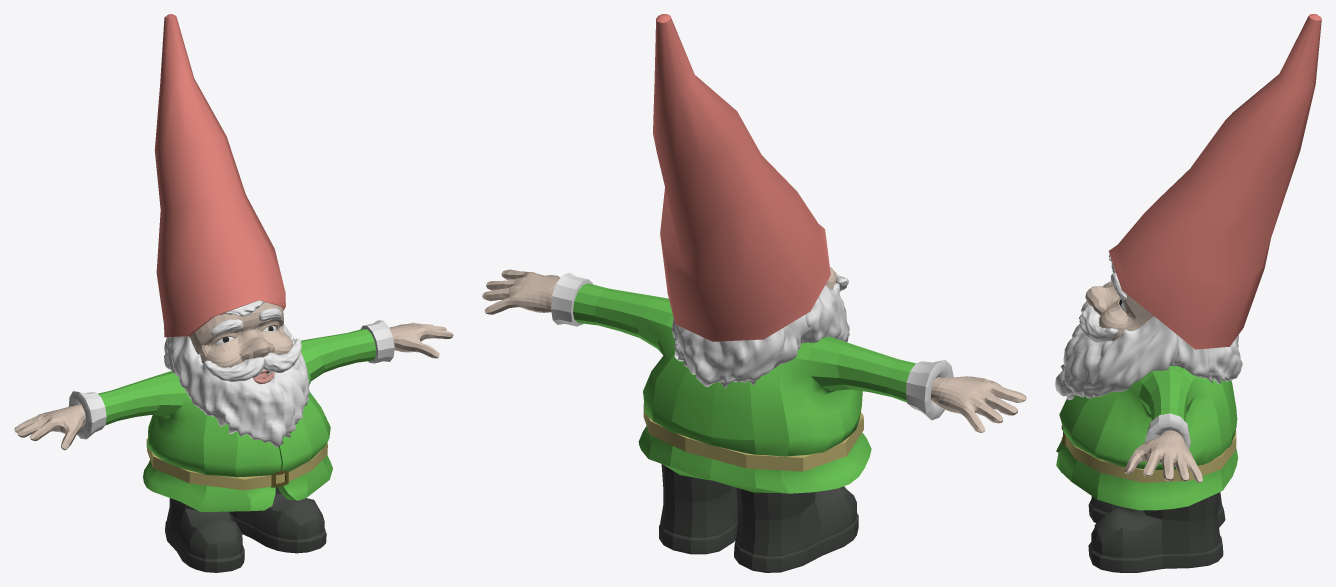
The model's file is gnome.fbx.
3 renders of one model, left to right at view 1: azimuth 30°, elevation 25°; view 2: azimuth 150°, elevation 25°; view 3: azimuth 270°, elevation 25°, orthographic. The views are drawn at different scales.
Visible parts, largest first — view 1: Hat, pCylinder5, baseHeadMesh:polySurface2, Boot, polySurface26, Boot1, baseHeadMesh:baseHeadMesh:baseHeadMesh:baseHeadMesh:polySurf (×2), pCube1, polySurface2, polySurface1; view 2: Hat, pCylinder5, Boot, Boot1, polySurface28, pCube1, polySurface2, polySurface1, baseHeadMesh:polySurface2; view 3: Hat, pCylinder5, Boot1, baseHeadMesh:polySurface2, polySurface1, polySurface28, polySurface26, pCube1, baseHeadMesh:baseHeadMesh:baseHeadMesh:baseHeadMesh:polySurf, Boot.
Part boxes in pixels (x1=…): Hat: x1=154, y1=14, x2=285, y2=337; pCylinder5: x1=68, y1=320, x2=394, y2=512; baseHeadMesh:polySurface2: x1=166, y1=324, x2=309, y2=447; Boot: x1=165, y1=498, x2=244, y2=572; polySurface26: x1=189, y1=302, x2=293, y2=384; Boot1: x1=230, y1=487, x2=326, y2=553; baseHeadMesh:baseHeadMesh:baseHeadMesh:baseHeadMesh:polySurf (×2): x1=204, y1=308, x2=301, y2=381; pCube1: x1=146, y1=438, x2=327, y2=490; polySurface2: x1=14, y1=404, x2=86, y2=450; polySurface1: x1=389, y1=322, x2=453, y2=358; Hat: x1=653, y1=14, x2=830, y2=341; pCylinder5: x1=551, y1=272, x2=953, y2=493; Boot: x1=734, y1=486, x2=858, y2=572; Boot1: x1=659, y1=464, x2=737, y2=554; polySurface28: x1=672, y1=314, x2=813, y2=388; pCube1: x1=643, y1=403, x2=863, y2=471; polySurface2: x1=930, y1=376, x2=1026, y2=432; polySurface1: x1=482, y1=269, x2=560, y2=314; baseHeadMesh:polySurface2: x1=802, y1=283, x2=849, y2=343; Hat: x1=1108, y1=14, x2=1321, y2=349; pCylinder5: x1=1056, y1=366, x2=1238, y2=510; Boot1: x1=1088, y1=492, x2=1223, y2=572; baseHeadMesh:polySurface2: x1=1055, y1=316, x2=1178, y2=400; polySurface1: x1=1124, y1=430, x2=1202, y2=482; polySurface28: x1=1174, y1=335, x2=1242, y2=384; polySurface26: x1=1085, y1=281, x2=1153, y2=340; pCube1: x1=1065, y1=430, x2=1236, y2=482; baseHeadMesh:baseHeadMesh:baseHeadMesh:baseHeadMesh:polySurf: x1=1079, y1=280, x2=1118, y2=342; Boot: x1=1088, y1=492, x2=1225, y2=527.
Size of the model in its own units: 3.53 by 3.72 by 1.72.
